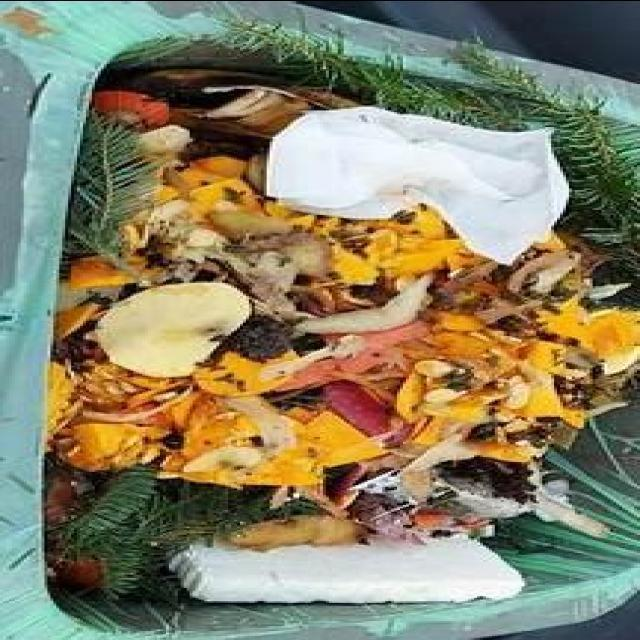Garbage: (47, 21, 640, 601)
Plastic_wraper: (266, 105, 569, 266)
Thermocol: (170, 536, 524, 601)
